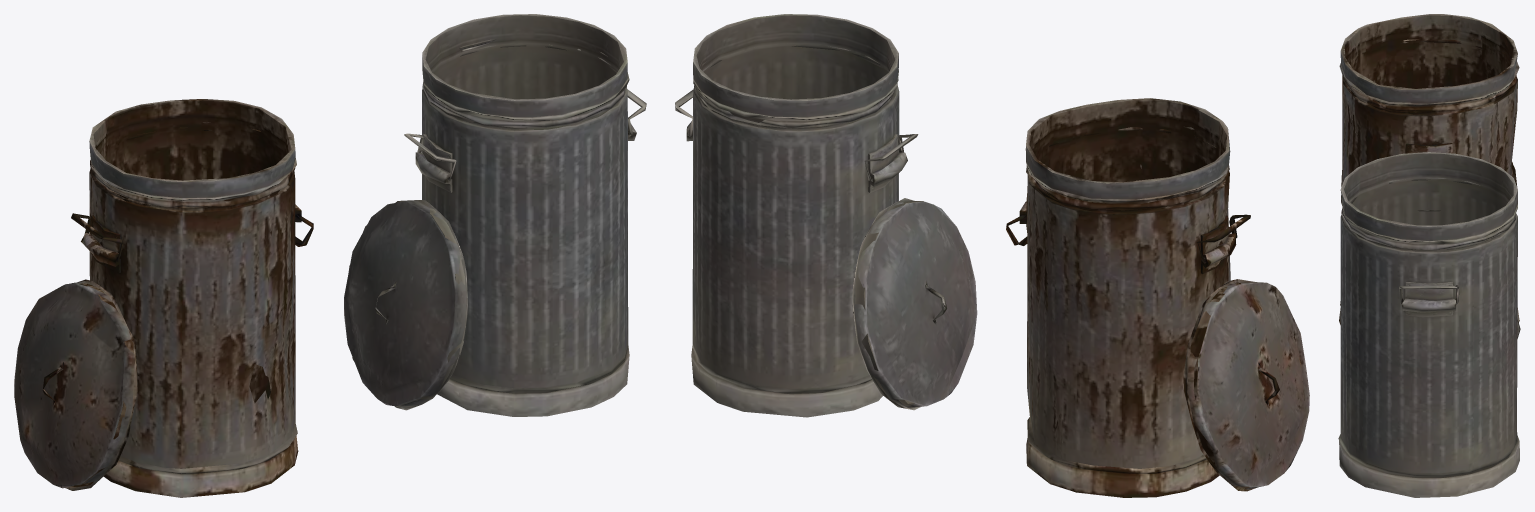
The model's file is metal_trash_can.glb.
3 views of the same model, side by side, from view 1: azimuth 30°, elevation 25°; view 2: azimuth 150°, elevation 25°; view 3: azimuth 270°, elevation 25° (orthographic). The views are drawn at different scales.
Visible parts, largest first — view 1: metal_trash_can_handle_left, metal_trash_can_rust; view 2: metal_trash_can_handle_left, metal_trash_can_rust; view 3: metal_trash_can_handle_left, metal_trash_can_rust.
Boxes of the visible parts, x1,y1,x2,y2 form: metal_trash_can_handle_left: (344,14,646,416); metal_trash_can_rust: (14,99,313,497); metal_trash_can_handle_left: (675,14,977,417); metal_trash_can_rust: (1006,98,1309,497); metal_trash_can_handle_left: (1338,152,1520,497); metal_trash_can_rust: (1339,14,1519,324).
Size of the model in its own units: 1.78 by 0.9062 by 0.5533.
Materials: 2 (2 with a texture image).
